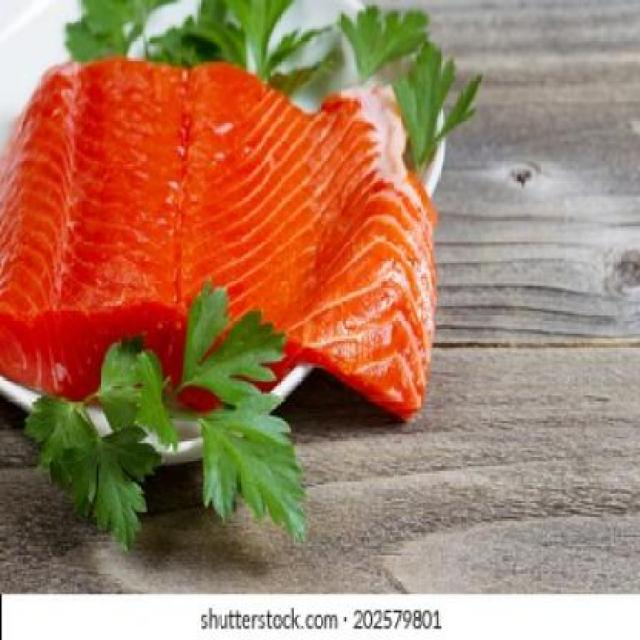salmon: (1, 46, 452, 444)
